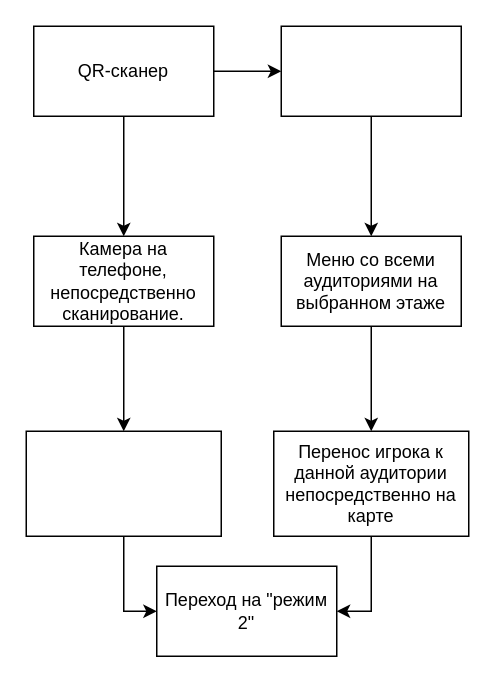
Some shapes in this 495 by 683 pixel diagram are drawn without their labels. Each missing label, with the centre of its shape:
"Выбор аудитории, около которой находится игрок" belongs at point (370, 70).
"Перенос игрока на его местоположение, согласно данному qr-коду" belongs at point (123, 483).
